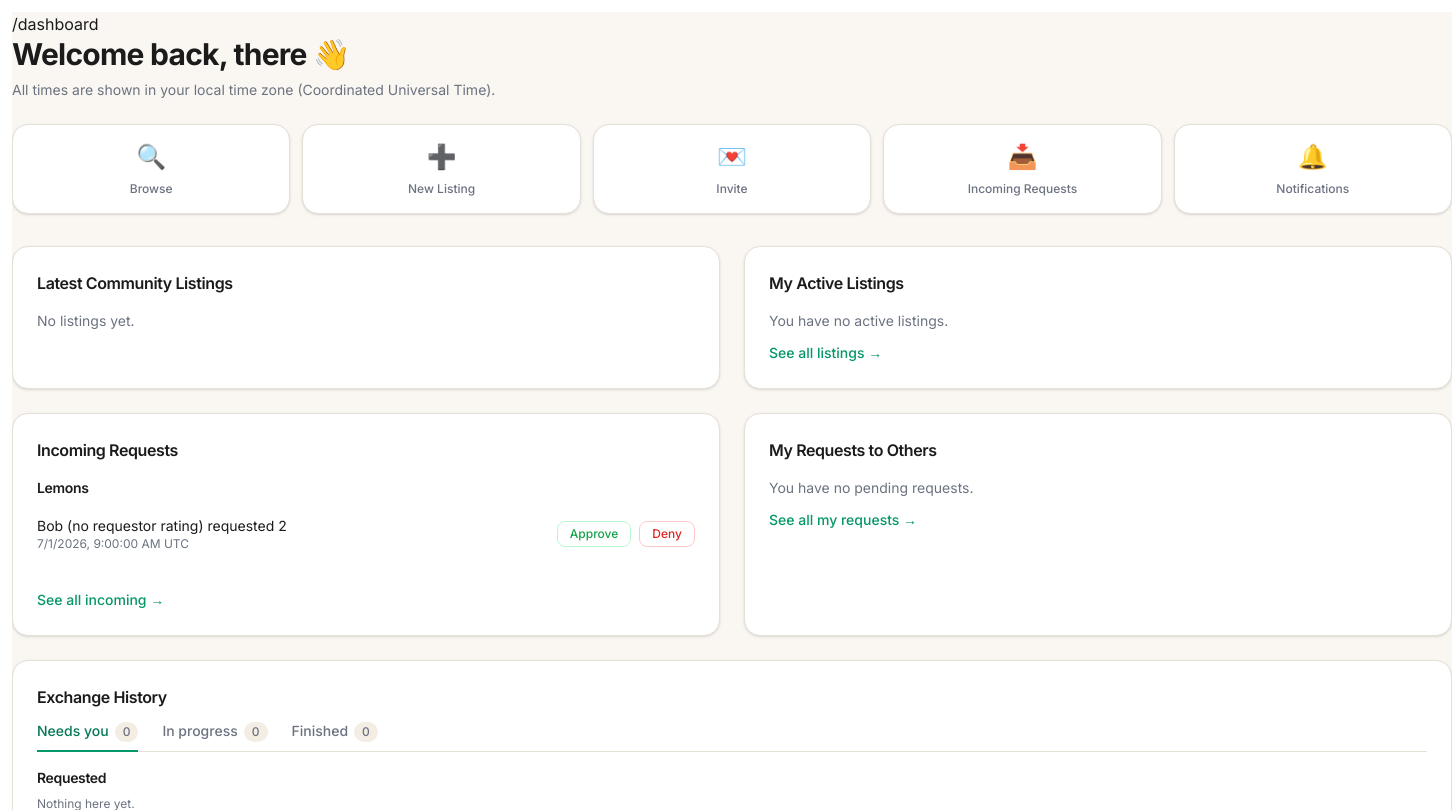
Test: Incoming requests shows Approve/Deny on an actionable row and reloads after a decision
This screenshot has width=1452, height=810.
Check: the link "Lemons" is shown, box [37,479,88,496]
Check: the text "Bob requested 2" is shown, box [37,516,287,536]
Click the button "Approve" at (594, 534), box [557,521,631,547]
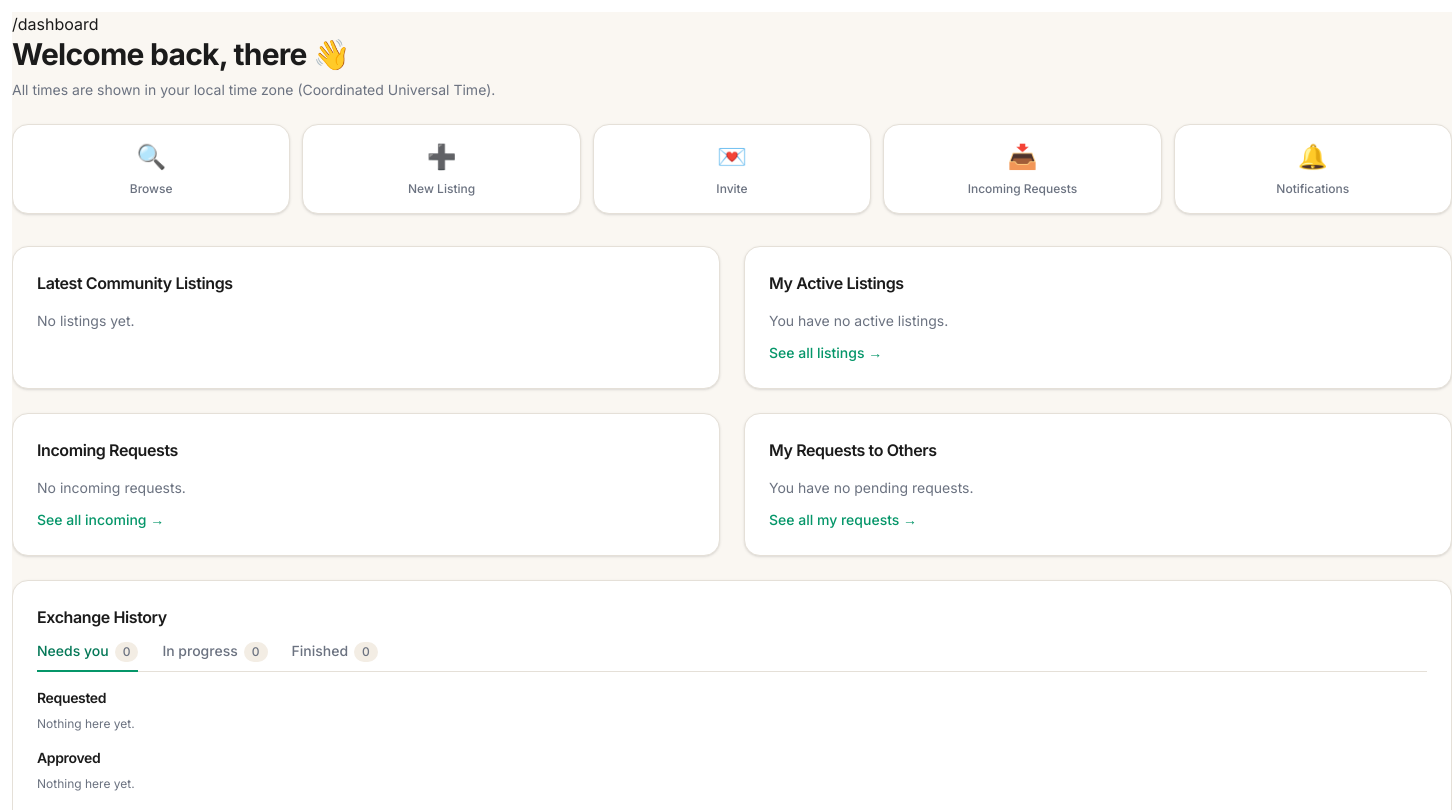
Check: the text "No incoming requests." is shown, box [37,479,186,496]
